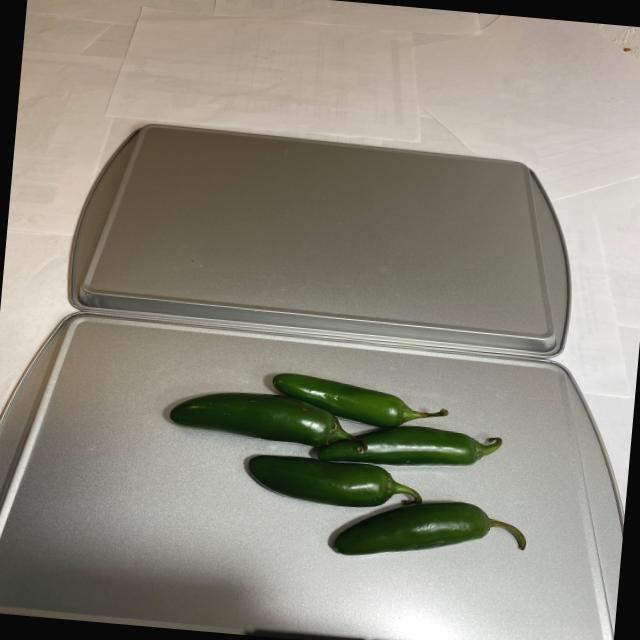chilli: (156, 358, 546, 568)
